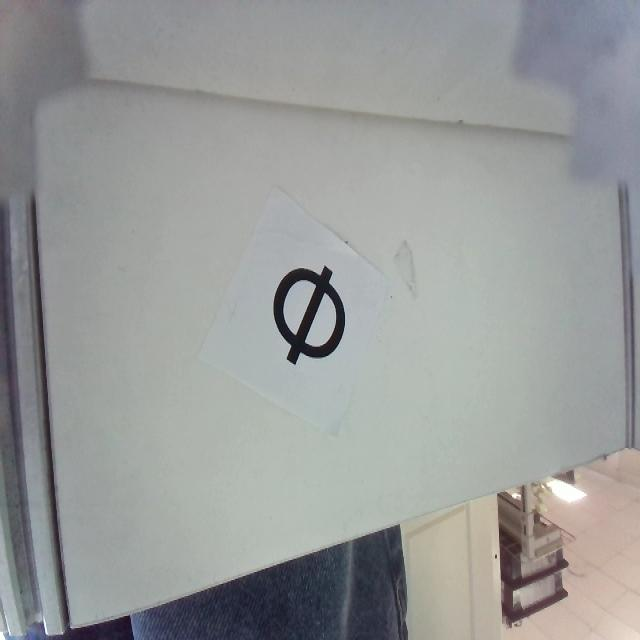F: (272, 263, 345, 364)
